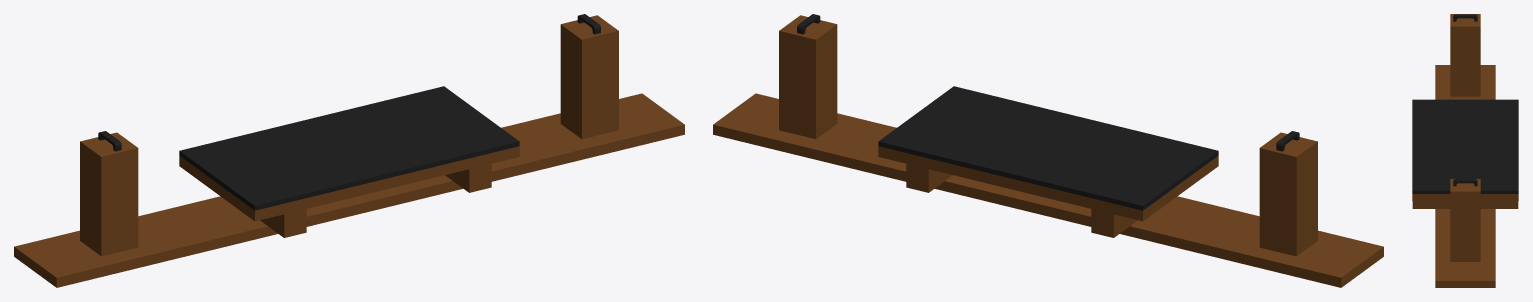
File: Painted_board.fbx
3 renders of one model, left to right at view 1: azimuth 30°, elevation 25°; view 2: azimuth 150°, elevation 25°; view 3: azimuth 270°, elevation 25°, orthographic. The views are drawn at different scales.
Visible parts, largest first — view 1: Cube; view 2: Cube; view 3: Cube.
Part boxes in pixels (box(x1,y1,x2,y2)): Cube: box(14, 14, 684, 287); Cube: box(713, 14, 1383, 287); Cube: box(1412, 14, 1518, 287).
Size of the model in its own units: 1700 by 303 by 354.
